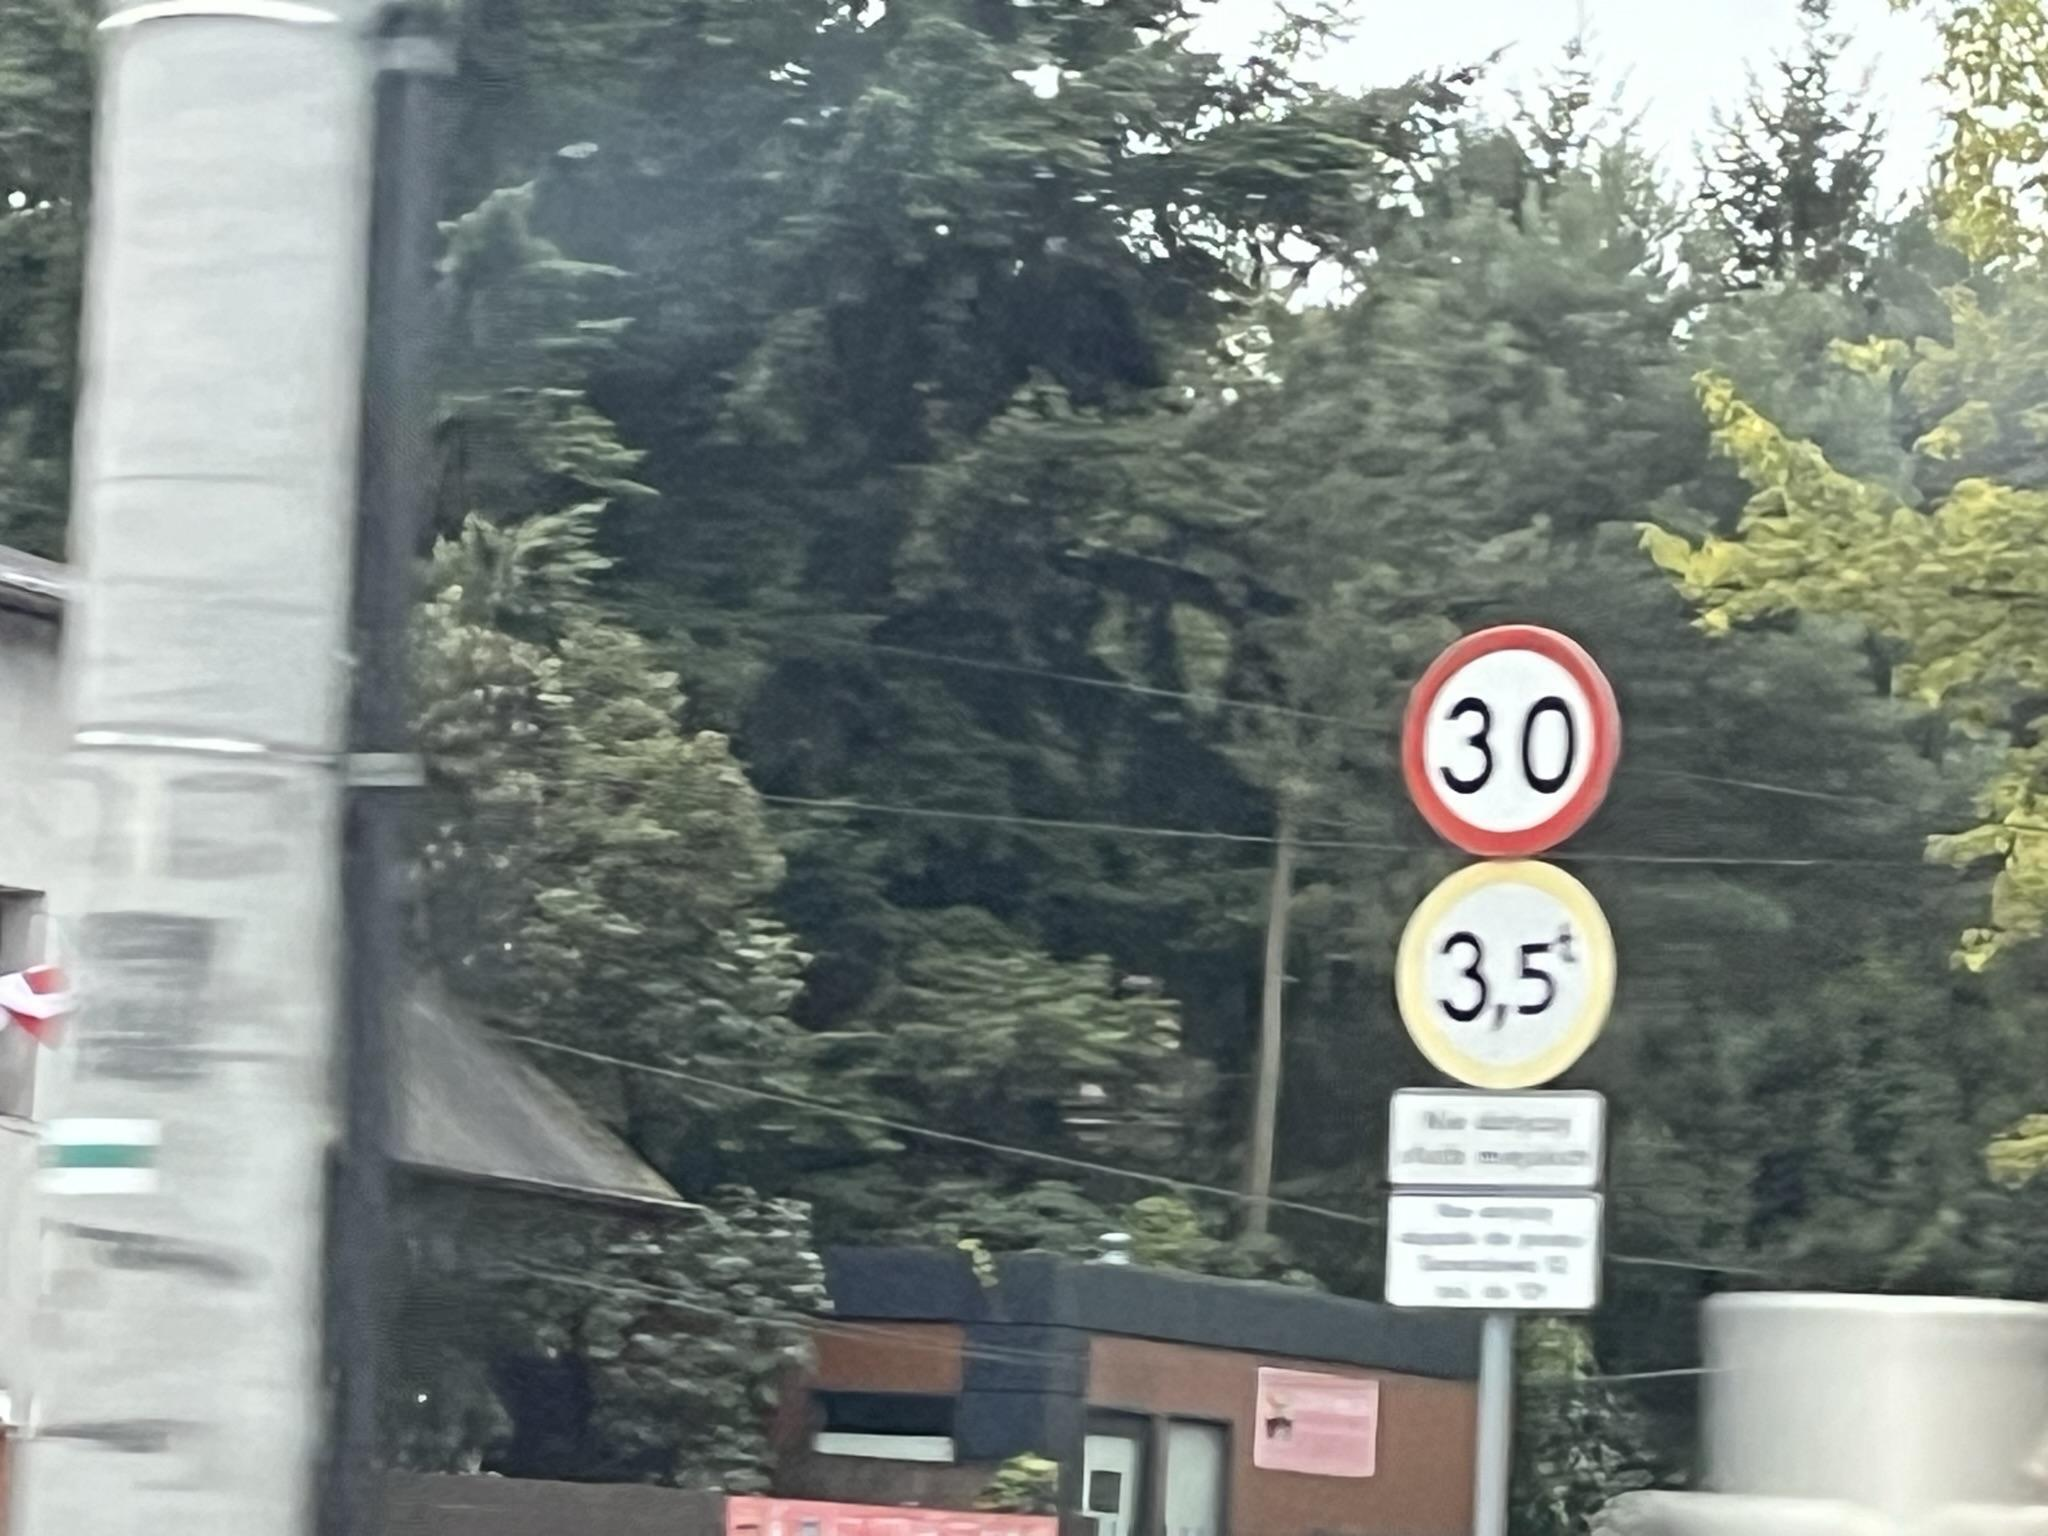other: (1384, 1187, 1613, 1313), (1388, 1091, 1606, 1196)
prohibitory: (1392, 858, 1622, 1094), (1398, 623, 1622, 860)
